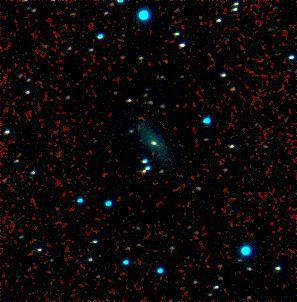star: (141, 157, 171, 187)
